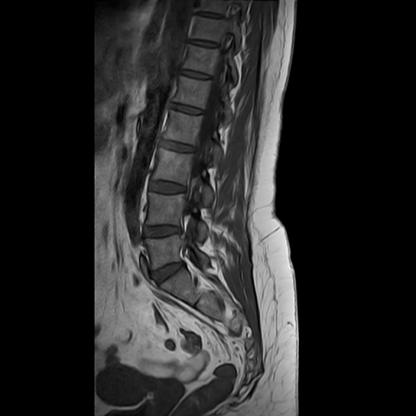Disc Bulgerotation: (147, 258, 194, 287), (139, 220, 187, 243)
